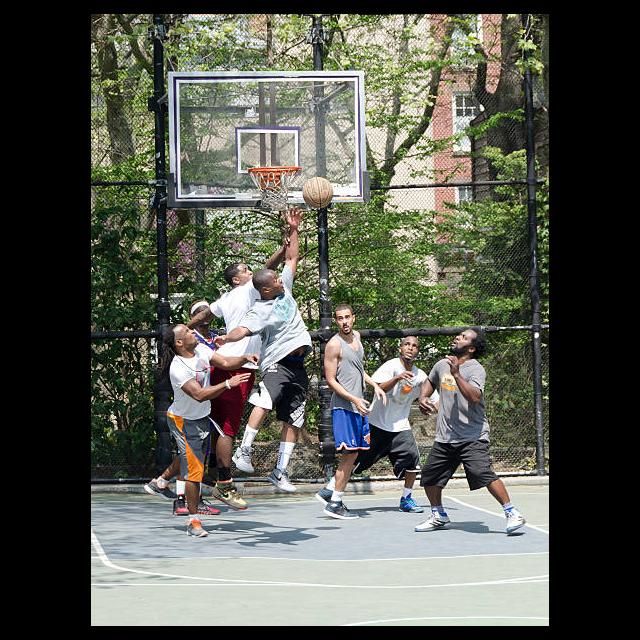basketball: (302, 177, 334, 209)
hoop: (246, 167, 301, 210)
